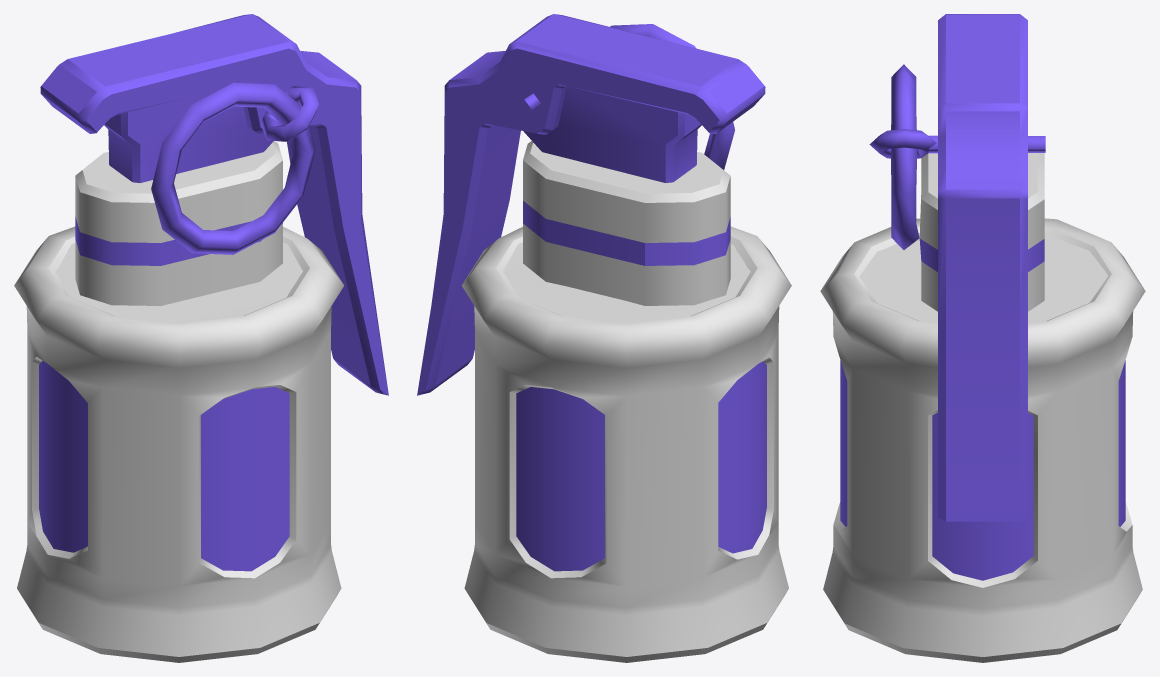
File: Smoke.fbx
3 renders of one model, left to right at view 1: azimuth 30°, elevation 25°; view 2: azimuth 150°, elevation 25°; view 3: azimuth 270°, elevation 25°, orthographic.
Visible parts, largest first — view 1: polySurface1; view 2: polySurface1; view 3: polySurface1.
Part boxes in pixels (x1=…): polySurface1: x1=14, y1=14, x2=388, y2=662; polySurface1: x1=417, y1=14, x2=791, y2=662; polySurface1: x1=820, y1=14, x2=1145, y2=662.
Size of the model in its own units: 0.0528 by 0.0906 by 0.0456.
